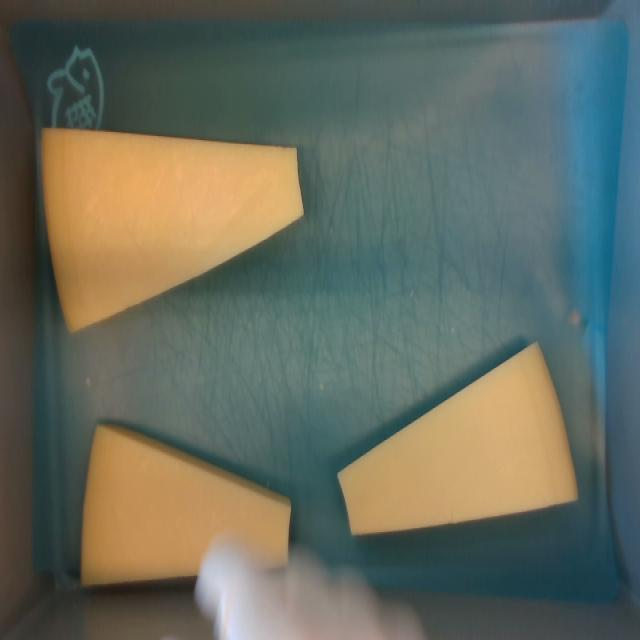Cheese: (42, 129, 303, 331), (338, 343, 577, 535), (82, 425, 290, 584)
